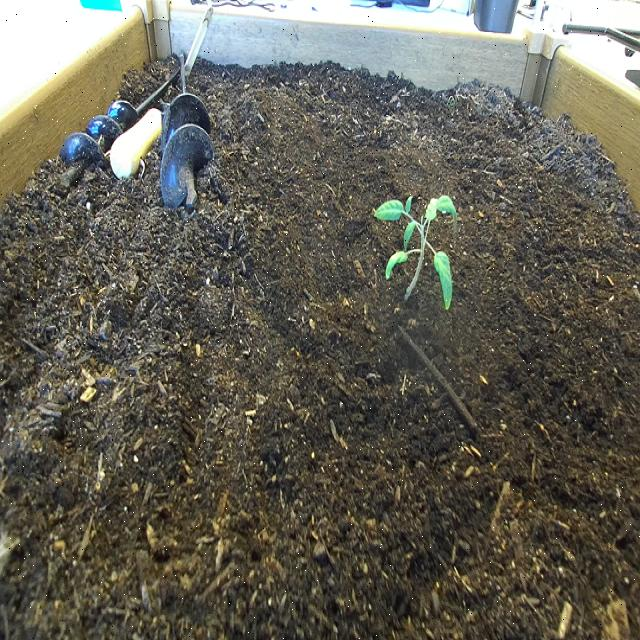Healthy: (365, 178, 467, 332)
